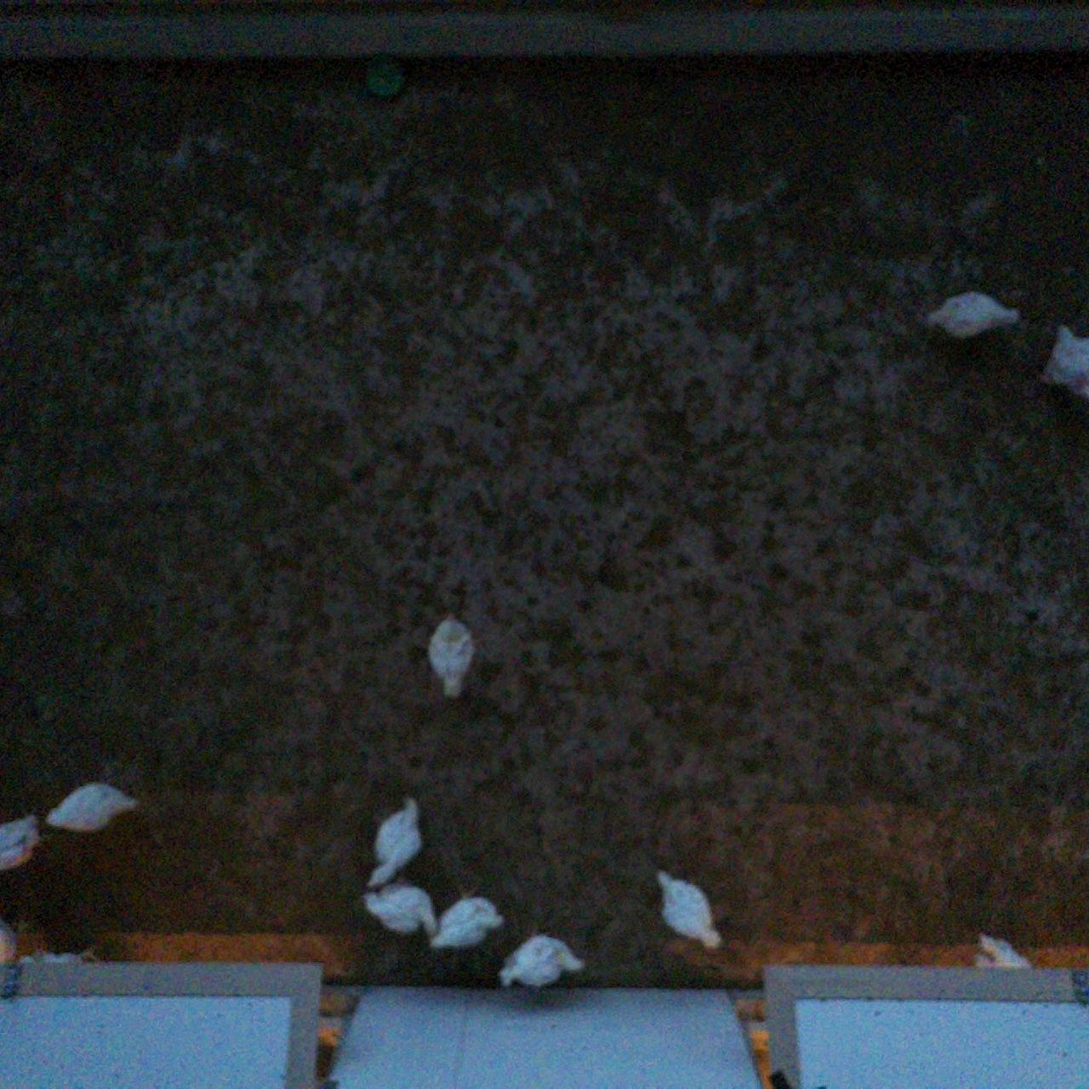chicken: (647, 861, 724, 955), (359, 790, 426, 891), (428, 880, 513, 954), (493, 928, 592, 991), (923, 287, 1028, 346), (44, 779, 140, 840), (421, 604, 480, 702), (361, 872, 439, 940), (1028, 323, 1089, 404), (965, 922, 1035, 977), (0, 807, 45, 878), (16, 939, 106, 972), (0, 915, 25, 972)
